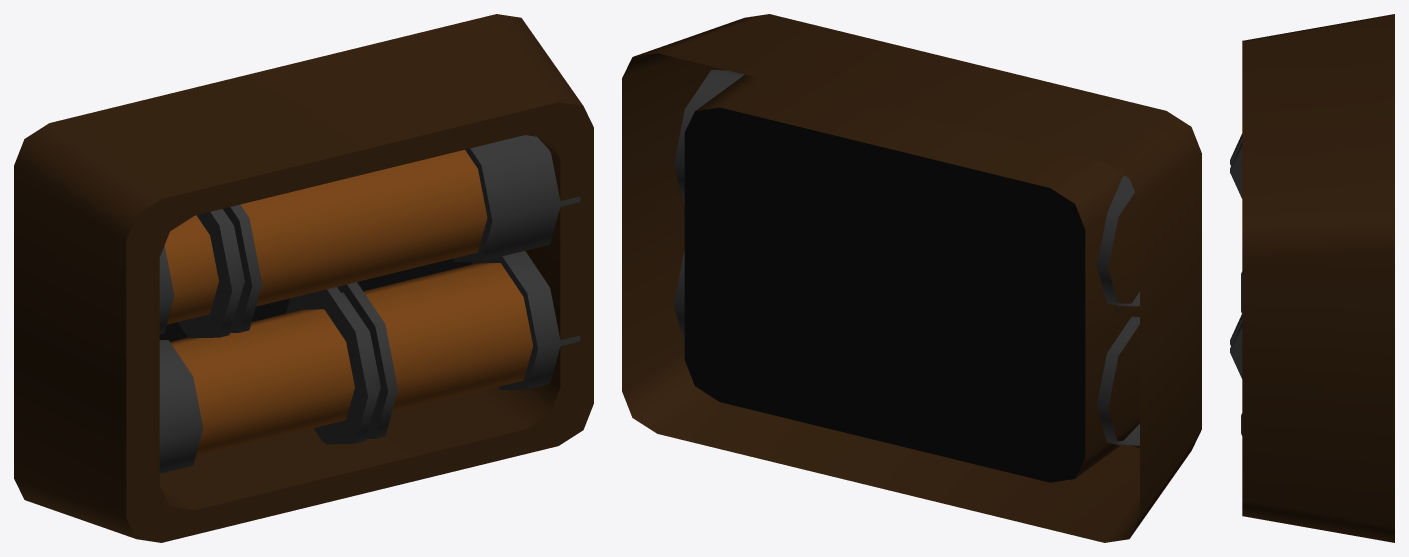
File: Details_Pipes_Small.obj
3 views of the same model, side by side, from view 1: azimuth 30°, elevation 25°; view 2: azimuth 150°, elevation 25°; view 3: azimuth 270°, elevation 25° (orthographic). The views are drawn at different scales.
Visible parts, largest first — view 1: Details_Pipes_Small_Cube.057; view 2: Details_Pipes_Small_Cube.057; view 3: Details_Pipes_Small_Cube.057.
Boxes of the visible parts, <box> form: Details_Pipes_Small_Cube.057: <box>14,14,593,542</box>; Details_Pipes_Small_Cube.057: <box>622,14,1201,542</box>; Details_Pipes_Small_Cube.057: <box>1230,14,1394,542</box>.
Bounding box in the file's own units: 0.3504 × 0.2462 × 0.1102.
